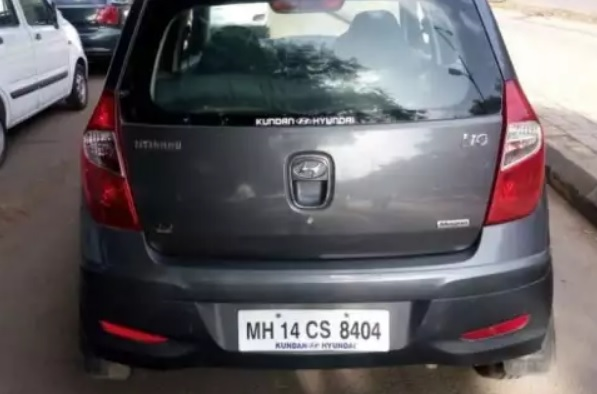licenseplate: (234, 305, 391, 354)
